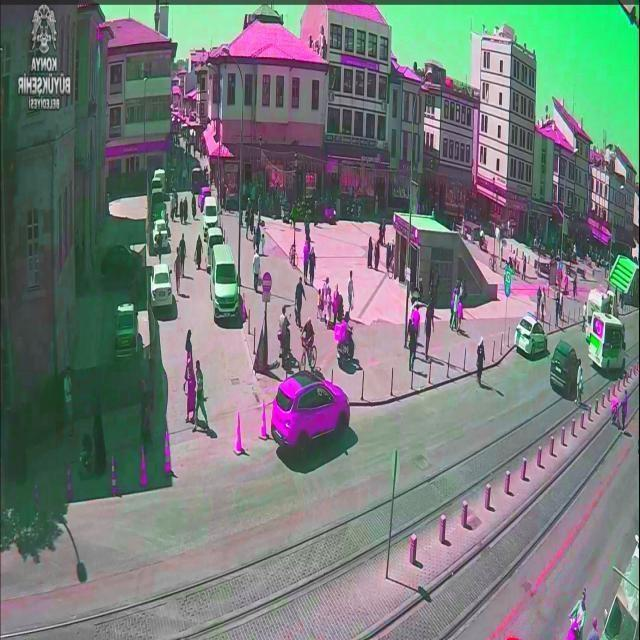Car: (270, 370, 351, 461), (550, 338, 581, 396), (514, 312, 548, 361), (100, 244, 144, 274), (114, 302, 137, 358), (149, 263, 173, 309), (206, 227, 225, 267), (152, 219, 170, 253), (151, 199, 168, 228), (198, 186, 212, 212), (606, 289, 618, 318), (150, 177, 164, 195)
Cycle: (300, 336, 318, 372), (338, 330, 354, 367)
Van: (209, 244, 241, 318), (586, 311, 626, 370), (587, 289, 610, 323), (201, 196, 219, 238)
